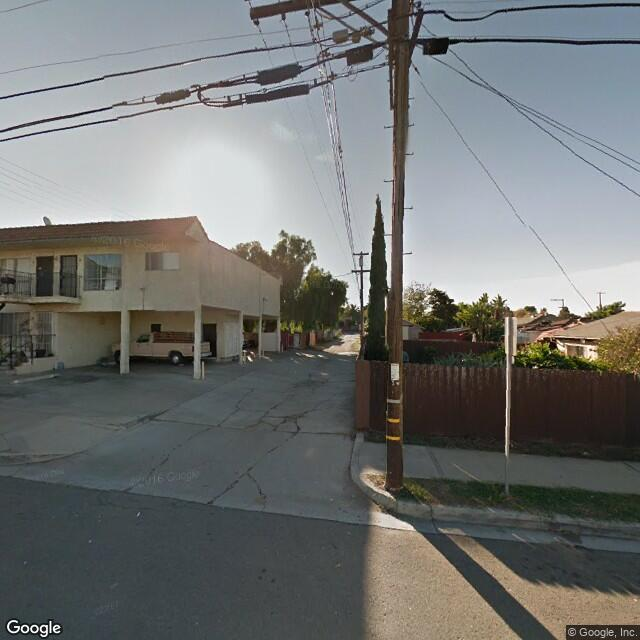litter: (128, 509, 145, 521)
